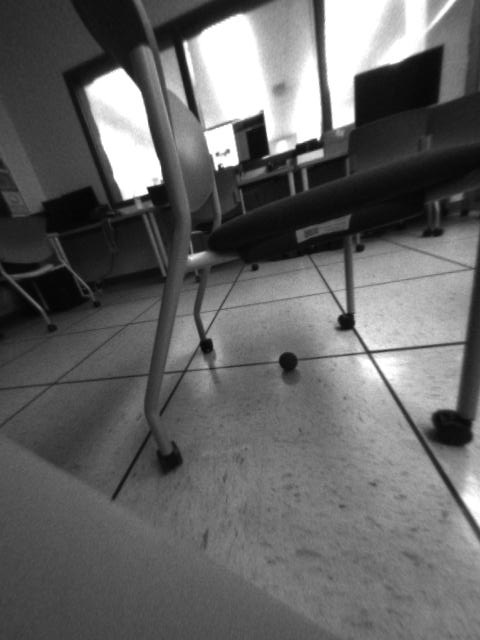dogtoy: (272, 345, 303, 377)
